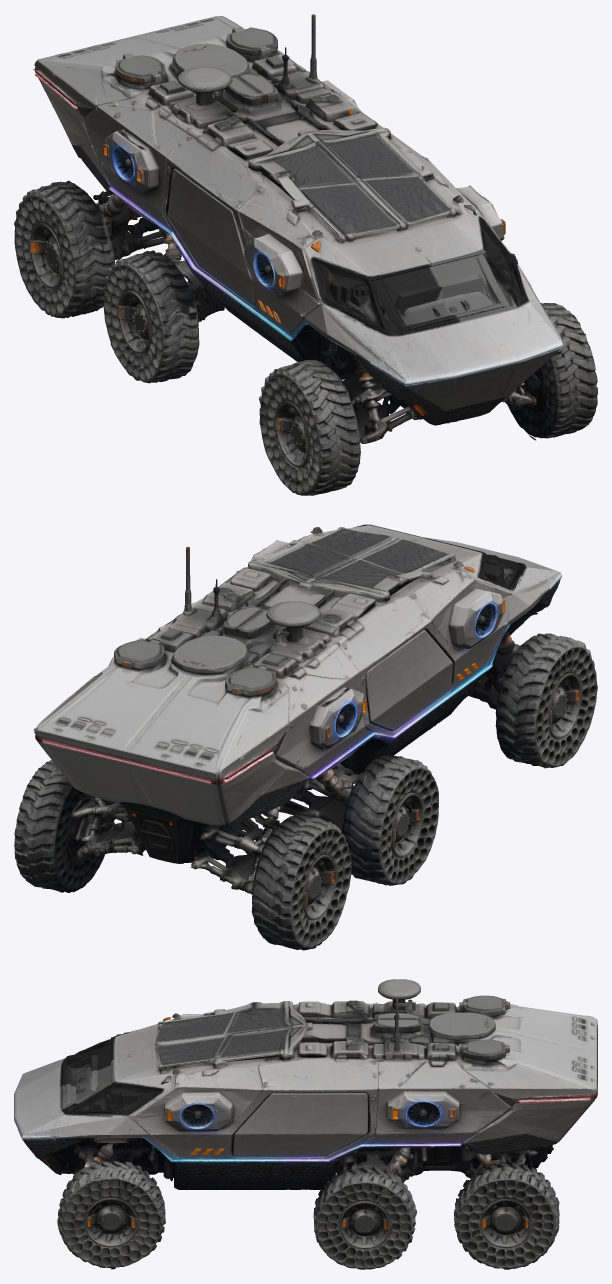
Rendered from ares1.glb.
The picture shows the model from 3 angles, top to bottom: view 1: azimuth 30°, elevation 25°; view 2: azimuth 150°, elevation 25°; view 3: azimuth 270°, elevation 25°; orthographic projection. The views are drawn at different scales.
Visible parts, largest first — view 1: world; view 2: world; view 3: world.
Boxes of the visible parts, x1=… form: world: x1=14, y1=14, x2=597, y2=495; world: x1=14, y1=524, x2=597, y2=950; world: x1=14, y1=979, x2=597, y2=1269.
Size of the model in its own units: 0.4445 by 0.4595 by 1.
Materials: 1 (1 with a texture image).
